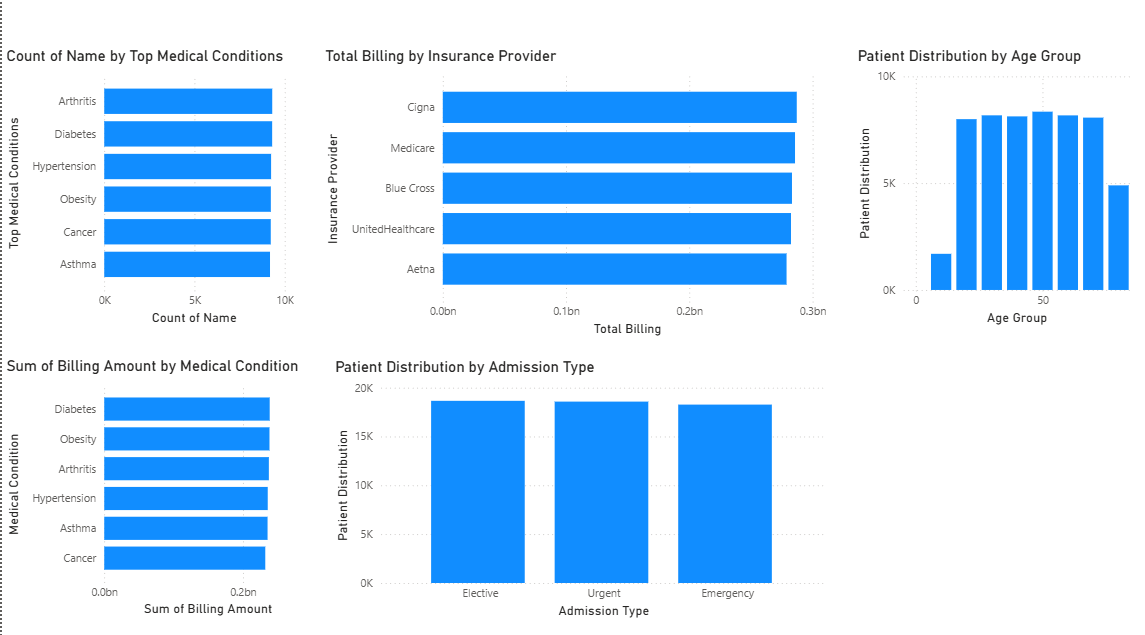

Layout of this report page (visuals, bound fields, positions):
{"tool":"powerbi","page":{"name":"Page 2","canvas":[1280,720],"ordinal":1},"visuals":[{"type":"clusteredBarChart","fields":{"Category":["healthcare_dataset.Medical Condition"],"Y":["CountNonNull(healthcare_dataset.Name)"]},"box":[0,60.4,329.3,314.2],"z":0},{"type":"clusteredBarChart","fields":{"Category":["healthcare_dataset.Insurance Provider"],"Y":["Sum(healthcare_dataset.Billing Amount)"]},"box":[354,60.4,566.7,326.6],"z":1000},{"type":"columnChart","fields":{"Category":["healthcare_dataset.Age (bins)"],"Y":["CountNonNull(healthcare_dataset.Name)"]},"box":[945.5,60.4,312.9,314.2],"z":2000},{"type":"clusteredBarChart","fields":{"Y":["Sum(healthcare_dataset.Billing Amount)"],"Category":["healthcare_dataset.Medical Condition"]},"box":[0,404.8,365,293.7],"z":3000},{"type":"clusteredColumnChart","fields":{"Category":["healthcare_dataset.Admission Type"],"Y":["CountNonNull(healthcare_dataset.Name)"]},"box":[365,405,556,294],"z":4000}]}

Visuals, with their boxes in screenshot pixels (x1, y1, x2, y2), scaled from the page's 1280x720 canvas onto the 1145x635 screenshot:
clusteredBarChart - healthcare_dataset.Medical Condition x CountNonNull(healthcare_dataset.Name): bbox=(0, 53, 295, 330)
clusteredBarChart - healthcare_dataset.Insurance Provider x Sum(healthcare_dataset.Billing Amount): bbox=(317, 53, 824, 341)
columnChart - healthcare_dataset.Age (bins) x CountNonNull(healthcare_dataset.Name): bbox=(846, 53, 1126, 330)
clusteredBarChart - Sum(healthcare_dataset.Billing Amount) x healthcare_dataset.Medical Condition: bbox=(0, 357, 327, 616)
clusteredColumnChart - healthcare_dataset.Admission Type x CountNonNull(healthcare_dataset.Name): bbox=(327, 357, 824, 616)
